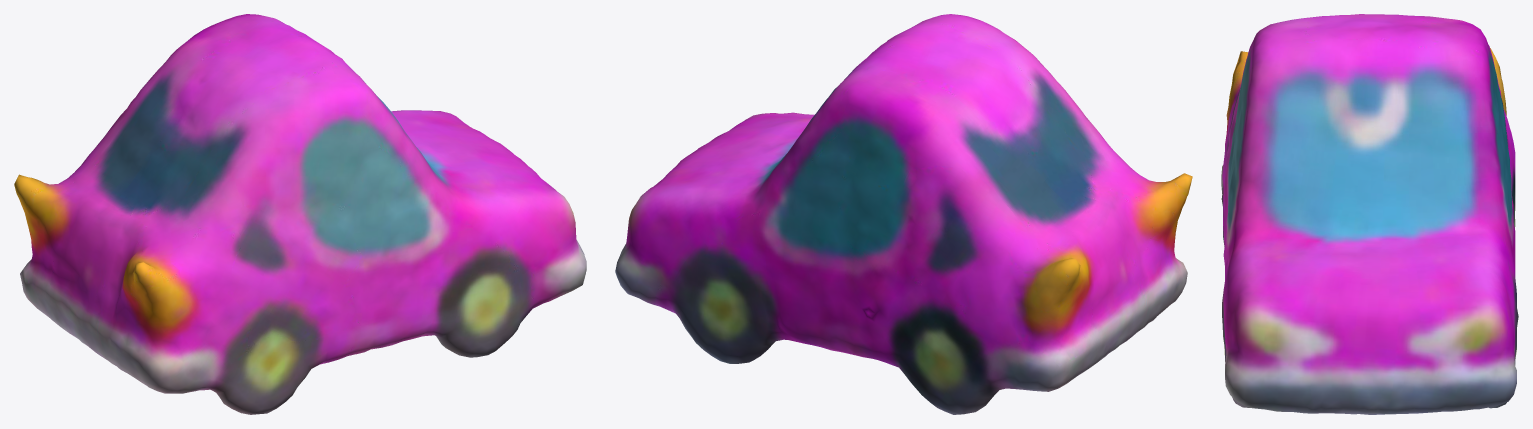
Rendered from pinkcar.fbx.
3 renders of one model, left to right at view 1: azimuth 30°, elevation 25°; view 2: azimuth 150°, elevation 25°; view 3: azimuth 270°, elevation 25°, orthographic. The views are drawn at different scales.
Visible parts, largest first — view 1: Mesh1; view 2: Mesh1; view 3: Mesh1.
Part boxes in pixels (x1,y1,x2,y2): Mesh1: [14, 14, 586, 414]; Mesh1: [615, 14, 1192, 414]; Mesh1: [1221, 14, 1518, 414].
Size of the model in its own units: 120 by 74.47 by 64.37.
1 material, 1 textured.
